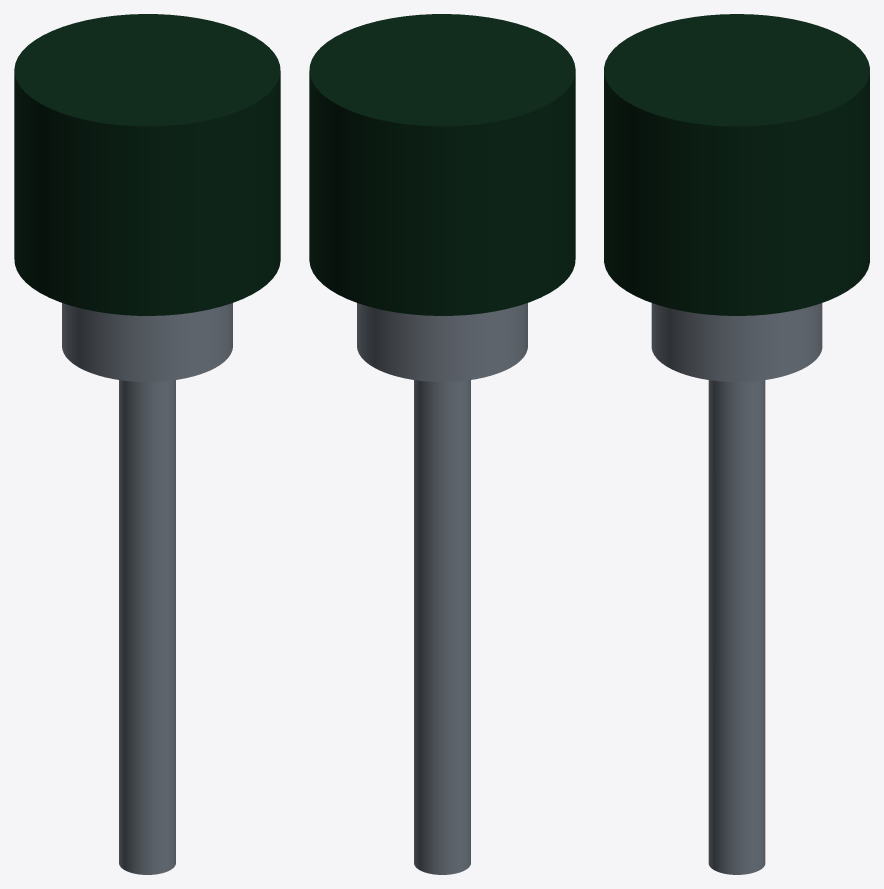
File: rtd_probe.glb
3 renders of one model, left to right at view 1: azimuth 30°, elevation 25°; view 2: azimuth 150°, elevation 25°; view 3: azimuth 270°, elevation 25°, orthographic.
Visible parts, largest first — view 1: rtd; view 2: rtd; view 3: rtd.
Part boxes in pixels (x1,y1,x2,y2): rtd: [14, 14, 280, 874]; rtd: [309, 14, 575, 874]; rtd: [604, 14, 869, 874].
Bounding box in the file's own units: 0.028 × 0.092 × 0.028.
